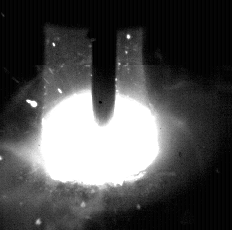arame: (93, 0, 116, 127)
poca: (39, 0, 161, 230)
